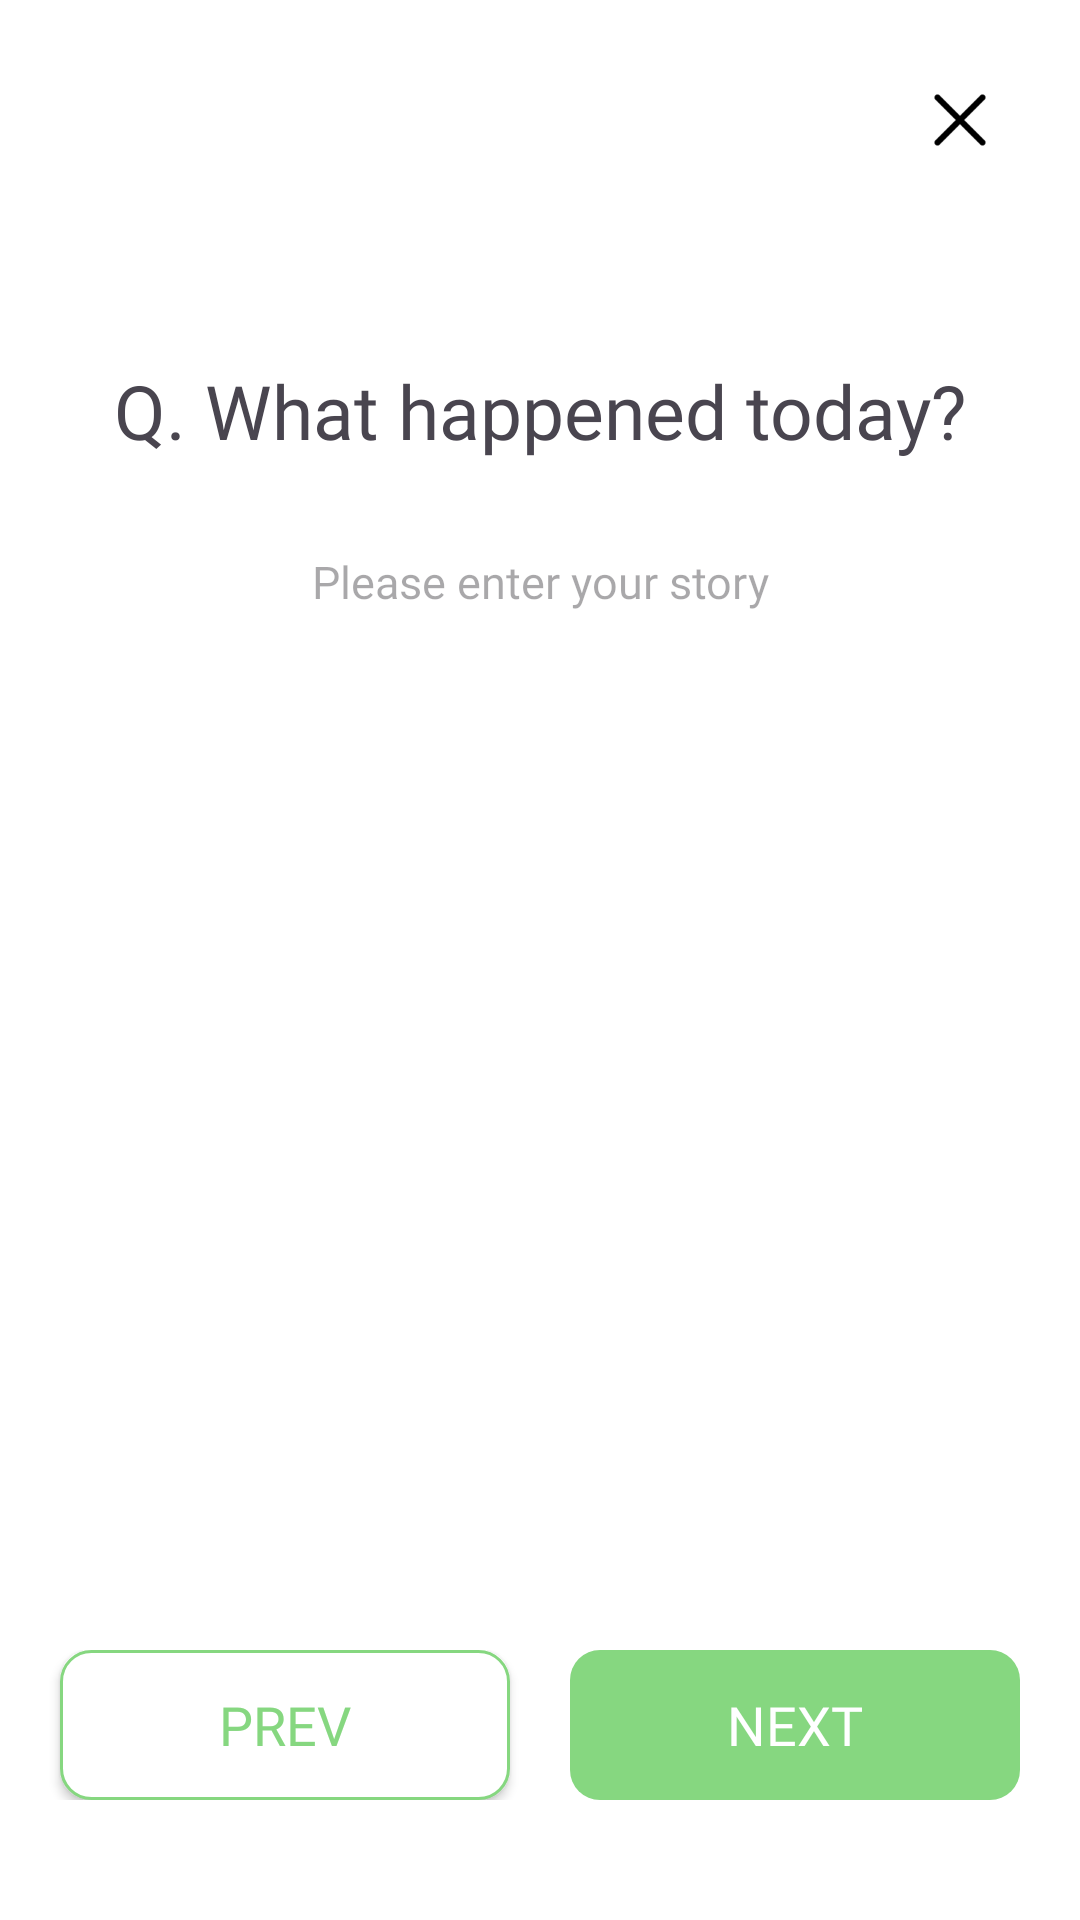

Screen size 1080*1920. Icon name, then its center in pixels as (x,y):
cancel: (960,120)
